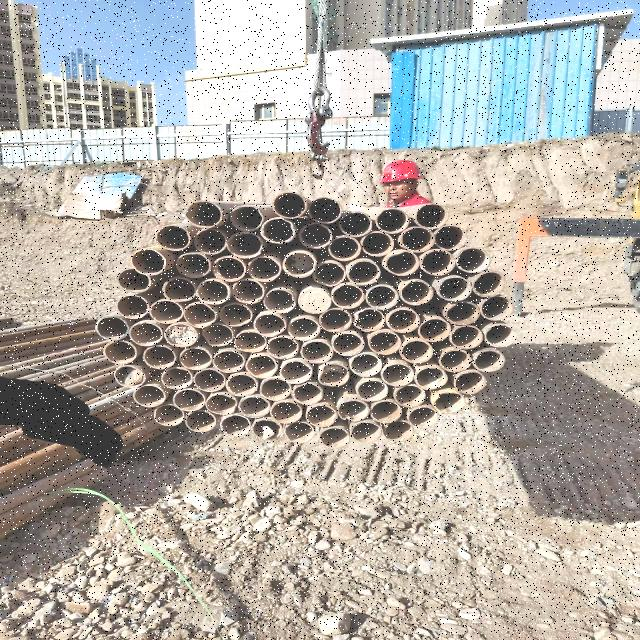pipe: (186, 200, 223, 228), (272, 190, 308, 218), (260, 216, 296, 244), (308, 196, 342, 224), (283, 250, 317, 278), (414, 203, 450, 229), (228, 232, 264, 258), (156, 224, 192, 250), (176, 252, 212, 278), (194, 228, 228, 255), (132, 248, 166, 275), (376, 207, 411, 233), (339, 211, 374, 237), (401, 226, 436, 252), (421, 249, 456, 275), (366, 284, 401, 310), (230, 205, 264, 231), (434, 225, 468, 251), (361, 230, 395, 256), (328, 235, 362, 261), (300, 222, 334, 248), (458, 247, 492, 273), (348, 259, 382, 285), (313, 260, 347, 286), (248, 256, 282, 282), (213, 256, 247, 282), (473, 271, 507, 297), (439, 275, 473, 301), (400, 279, 434, 305), (332, 283, 366, 309), (299, 288, 333, 314), (232, 278, 266, 304), (184, 301, 218, 327), (130, 320, 164, 346), (162, 277, 198, 301), (149, 299, 185, 323), (449, 325, 485, 349), (197, 278, 230, 304), (320, 307, 354, 332), (386, 251, 421, 275), (480, 296, 514, 320), (447, 301, 481, 325), (388, 308, 422, 332), (288, 316, 322, 340), (254, 313, 288, 337), (117, 294, 151, 318), (400, 339, 434, 363), (332, 332, 366, 356), (165, 322, 199, 346), (96, 316, 130, 340), (104, 340, 138, 364), (265, 288, 297, 313), (351, 352, 383, 377), (281, 359, 313, 384), (119, 267, 152, 291), (220, 302, 253, 326), (419, 318, 452, 342), (180, 346, 213, 370), (144, 345, 177, 369), (194, 368, 227, 392), (369, 331, 403, 354), (300, 340, 334, 363), (202, 323, 236, 346), (439, 350, 474, 372), (354, 308, 386, 332), (486, 323, 518, 347), (246, 354, 278, 378), (395, 384, 427, 408), (260, 377, 292, 401), (134, 384, 167, 407), (266, 336, 300, 358), (234, 330, 268, 352), (454, 372, 488, 394), (415, 367, 449, 389), (382, 363, 416, 385), (338, 399, 372, 421), (173, 389, 207, 411), (293, 382, 325, 405), (227, 373, 259, 396), (115, 364, 147, 387), (271, 401, 303, 424), (213, 350, 246, 372), (185, 409, 218, 431), (154, 404, 187, 426), (474, 350, 506, 372), (319, 363, 351, 385), (434, 391, 466, 413), (162, 367, 194, 389), (409, 406, 441, 428), (371, 400, 403, 422), (306, 404, 338, 426), (240, 396, 272, 418), (207, 393, 239, 415), (352, 421, 384, 443), (220, 414, 252, 436), (320, 426, 350, 448), (252, 418, 282, 440), (358, 380, 390, 400), (284, 422, 316, 442), (386, 421, 416, 442)
